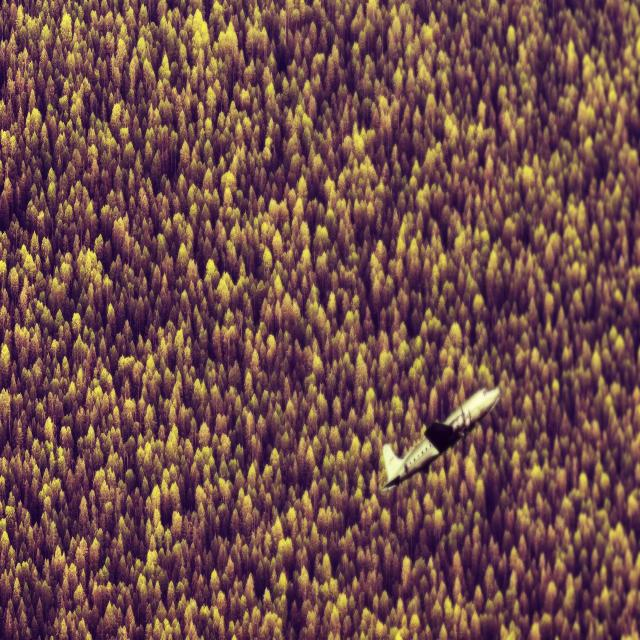airplane: (382, 385, 501, 490)
